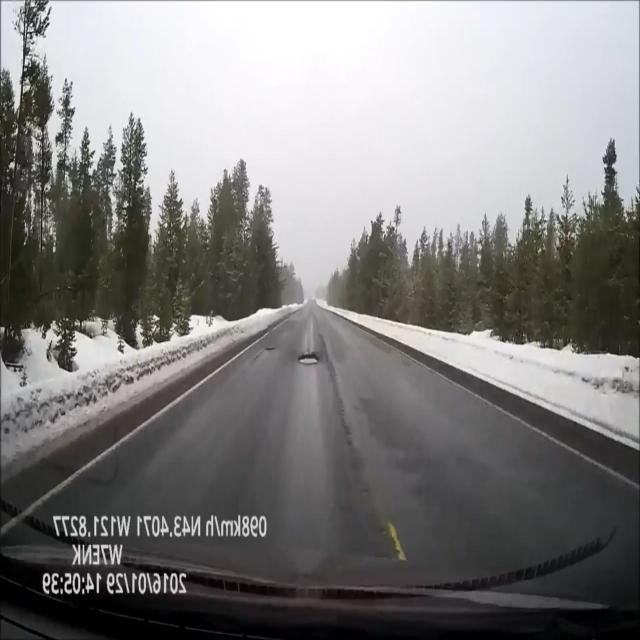Pothole: (298, 351, 319, 365)
